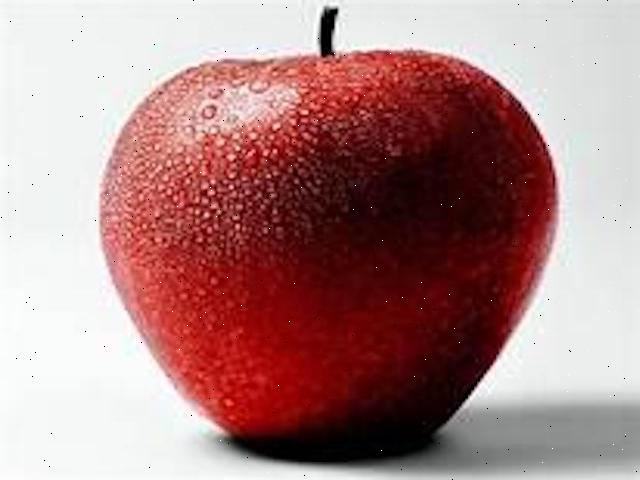apple: (90, 3, 574, 469)
